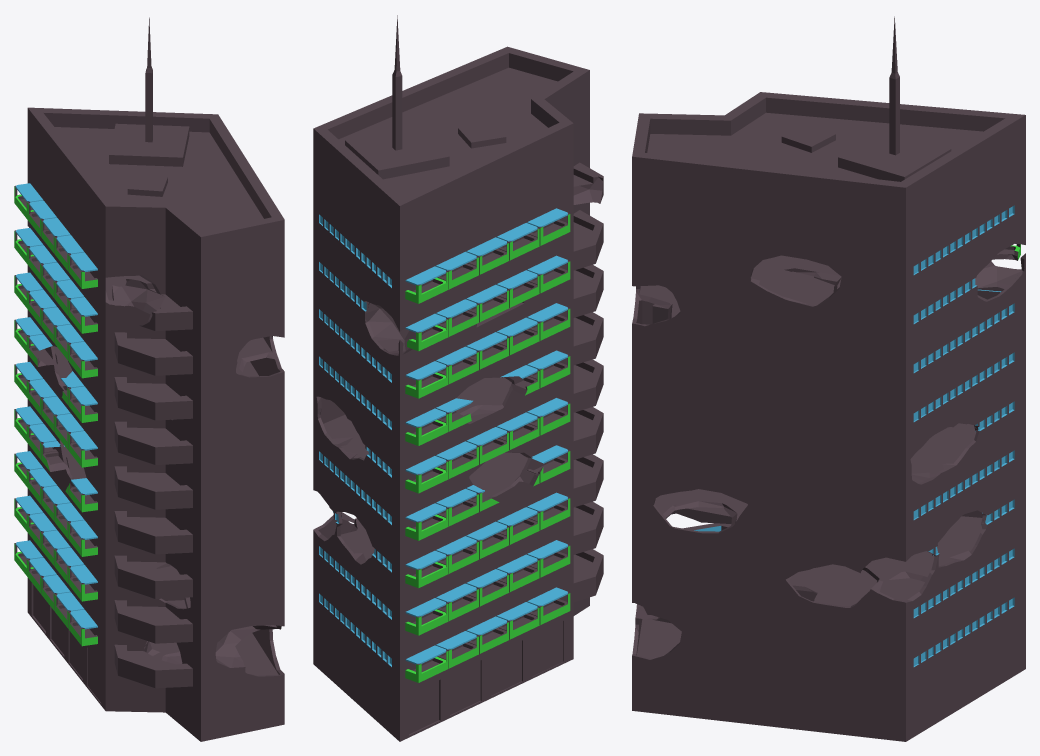
Rendered from buildings10.fbx.
3 renders of one model, left to right at view 1: azimuth 30°, elevation 25°; view 2: azimuth 150°, elevation 25°; view 3: azimuth 270°, elevation 25°, orthographic. The views are drawn at different scales.
Visible parts, largest first — view 1: 6; view 2: 6; view 3: 6.
Boxes of the visible parts, x1=… form: 6: x1=14, y1=17, x2=284, y2=741; 6: x1=313, y1=15, x2=603, y2=741; 6: x1=632, y1=16, x2=1025, y2=741.
Size of the model in its own units: 2410 by 7635 by 3958.
